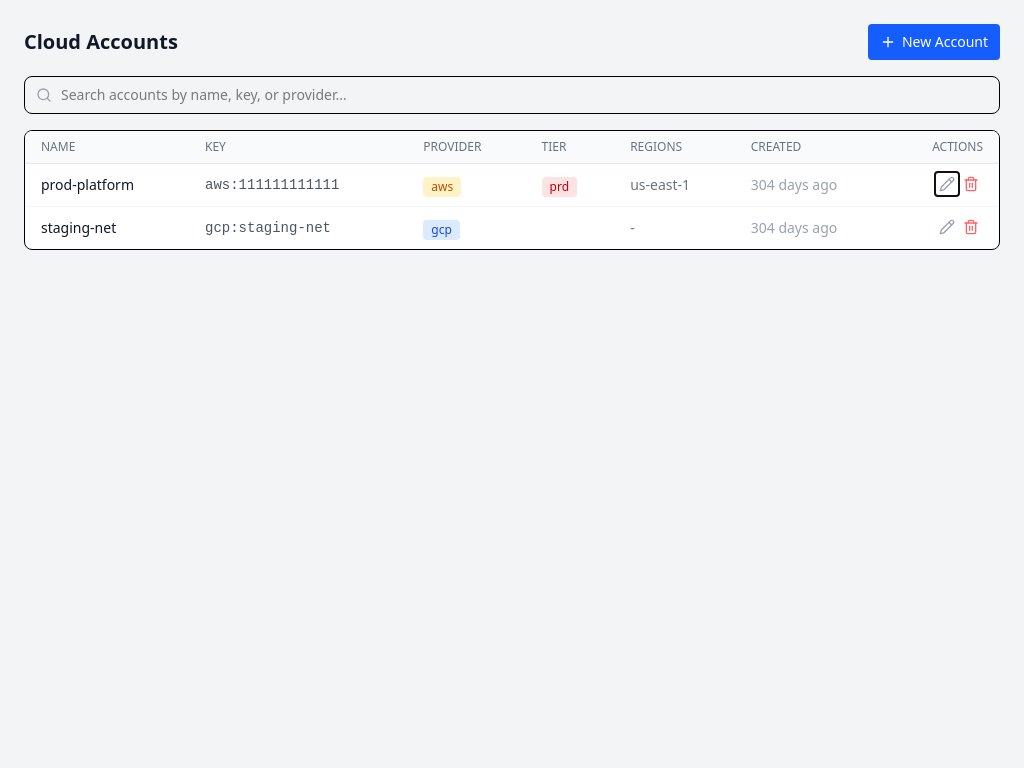
Scenario: AccountsPage edit › focuses the first editable field on open, closes on Escape and returns focus to the Edit button
Click the button named "Edit" in the row of "prod-platform". click: (947, 184)
box: [935,172,959,196]
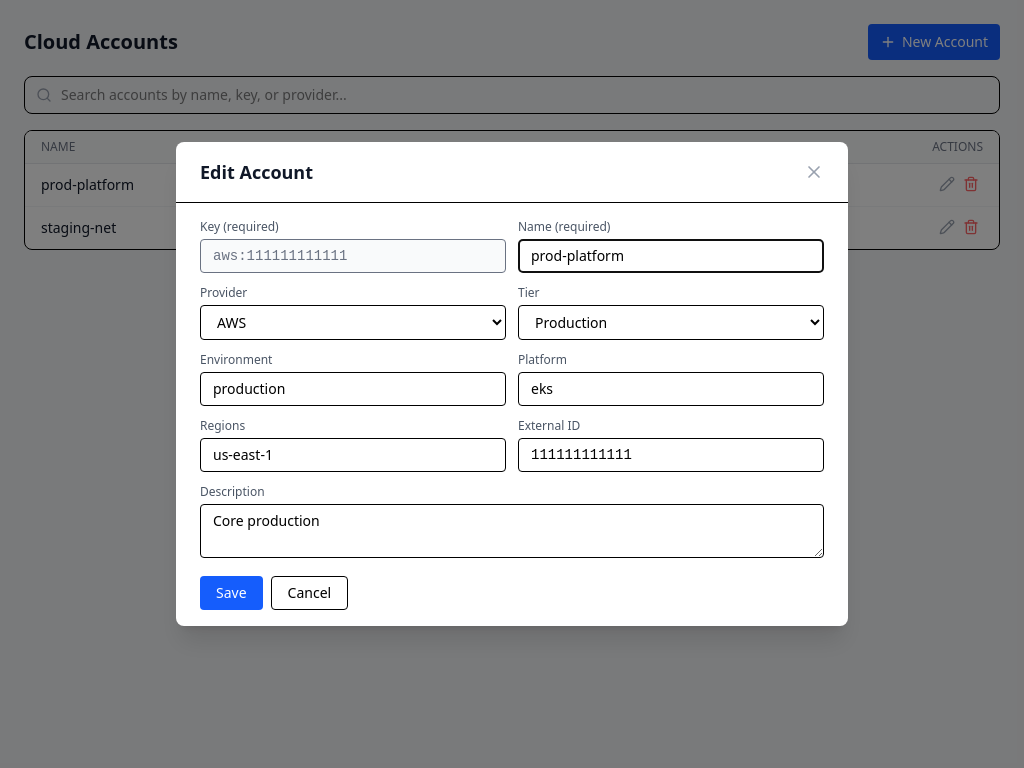
Press Escape
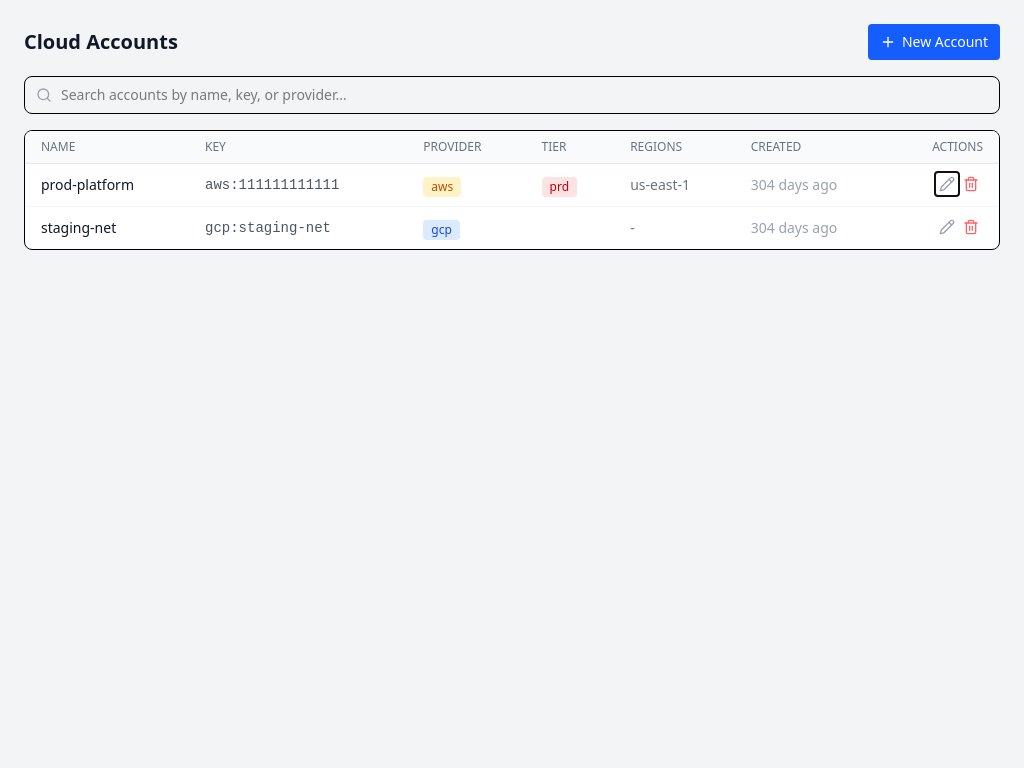
Expected: the dialog is gone
